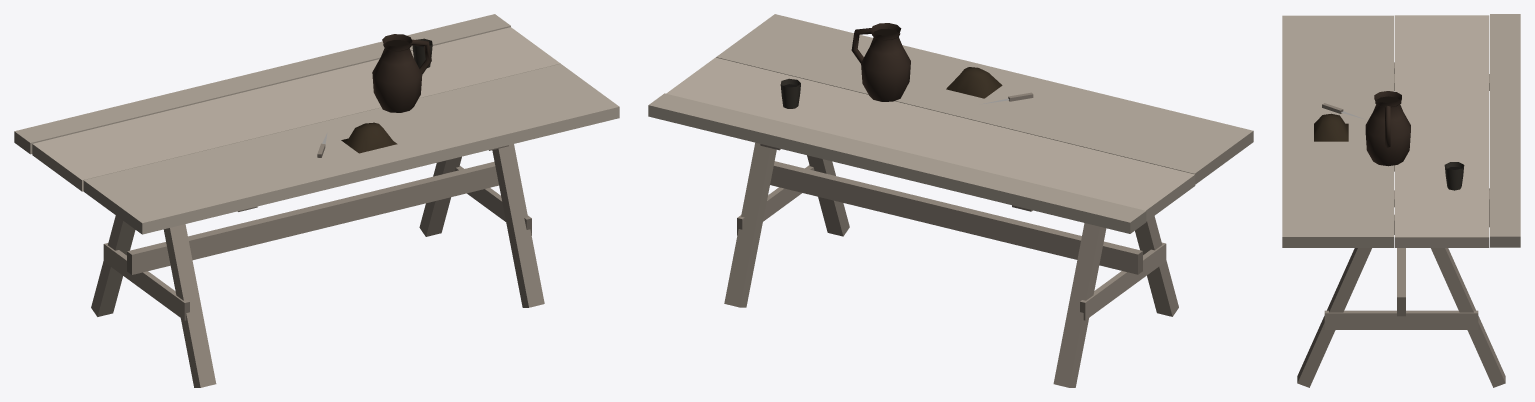
File: prop_table_jug.glb
3 renders of one model, left to right at view 1: azimuth 30°, elevation 25°; view 2: azimuth 150°, elevation 25°; view 3: azimuth 270°, elevation 25°, orthographic. The views are drawn at different scales.
Parts seen in each view (by area): view 1: TableJug, TableJugSoft; view 2: TableJug, TableJugSoft; view 3: TableJug, TableJugSoft.
Boxes of the visible parts, x1,y1,x2,y2 form: TableJug: (14, 14, 619, 387); TableJugSoft: (341, 34, 432, 153); TableJug: (648, 14, 1253, 387); TableJugSoft: (780, 23, 1002, 108); TableJug: (1282, 14, 1520, 387); TableJugSoft: (1314, 91, 1464, 190).
Bounding box in the file's own units: 1.99 × 1.02 × 0.9.
